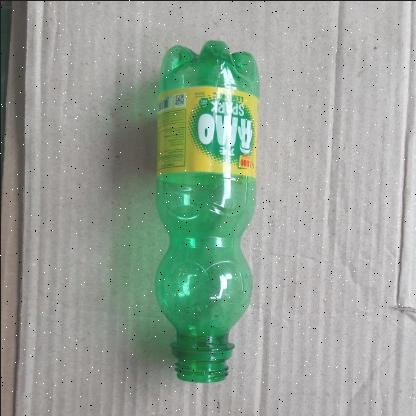Plastic Bottle: (98, 19, 306, 403)
